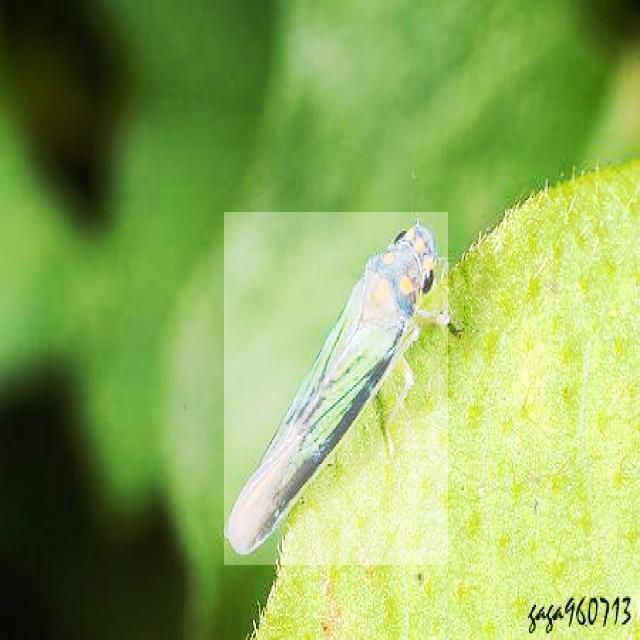green-leafhopper: (225, 212, 448, 565)
